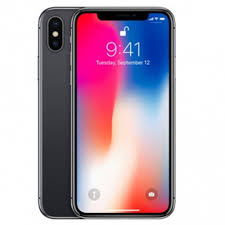iphone: (66, 2, 175, 216)
iphone10: (68, 4, 177, 218)
